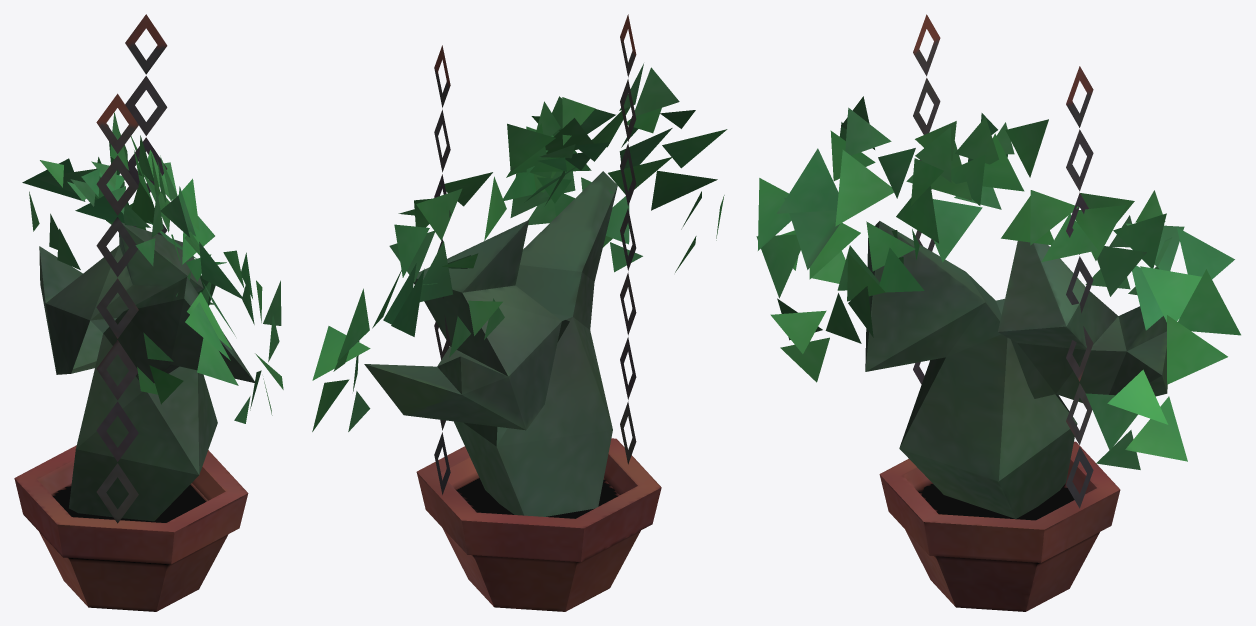
The model's file is swing.fbx_plant2.fbx.
3 renders of one model, left to right at view 1: azimuth 30°, elevation 25°; view 2: azimuth 150°, elevation 25°; view 3: azimuth 270°, elevation 25°, orthographic. The views are drawn at different scales.
Visible parts, largest first — view 1: Fatplant1, Hangingplant1.002; view 2: Fatplant1, Hangingplant1.002; view 3: Fatplant1, Hangingplant1.002.
Boxes of the visible parts, left/top/right/bottom form: Fatplant1: left=22, top=112, right=283, bottom=521; Hangingplant1.002: left=14, top=14, right=248, bottom=611; Fatplant1: left=312, top=63, right=727, bottom=516; Hangingplant1.002: left=416, top=14, right=661, bottom=611; Fatplant1: left=756, top=96, right=1240, bottom=518; Hangingplant1.002: left=879, top=14, right=1120, bottom=611.
Bounding box in the file's own units: 191 × 396 × 319.
